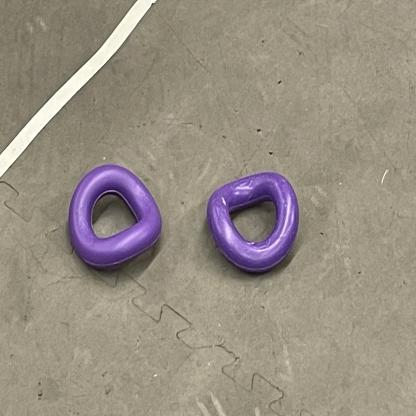ring: (67, 163, 162, 270), (206, 172, 299, 274)
